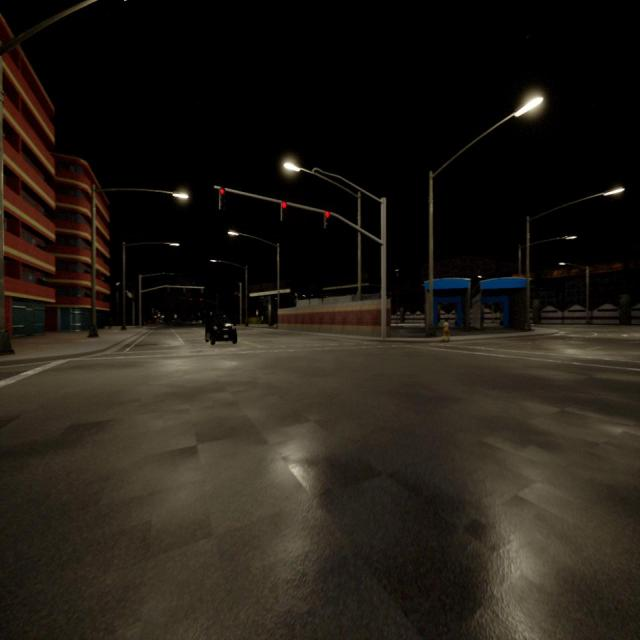Pedestrian: (442, 318, 450, 342)
Vehicle: (205, 315, 237, 344)
traffic_light: (219, 188, 225, 209), (280, 202, 286, 222), (324, 212, 330, 228), (168, 287, 170, 292), (201, 288, 203, 293), (190, 298, 192, 302), (200, 298, 202, 302), (184, 288, 186, 292), (235, 293, 237, 295)
